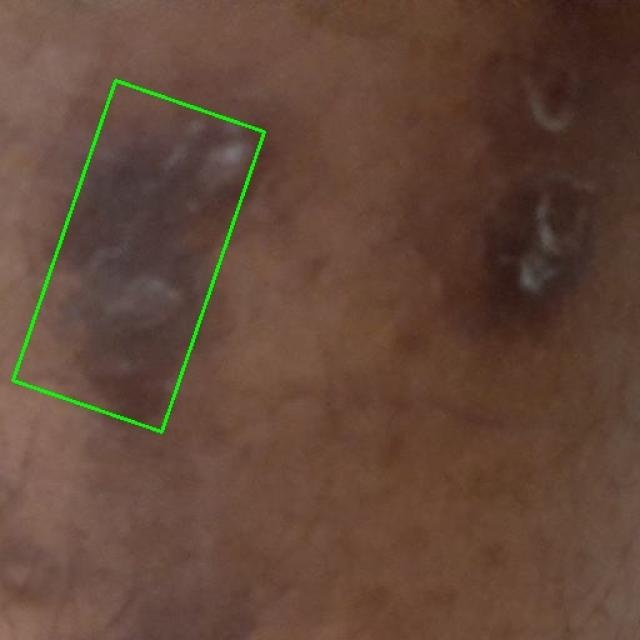Eczema: (13, 81, 265, 432)
